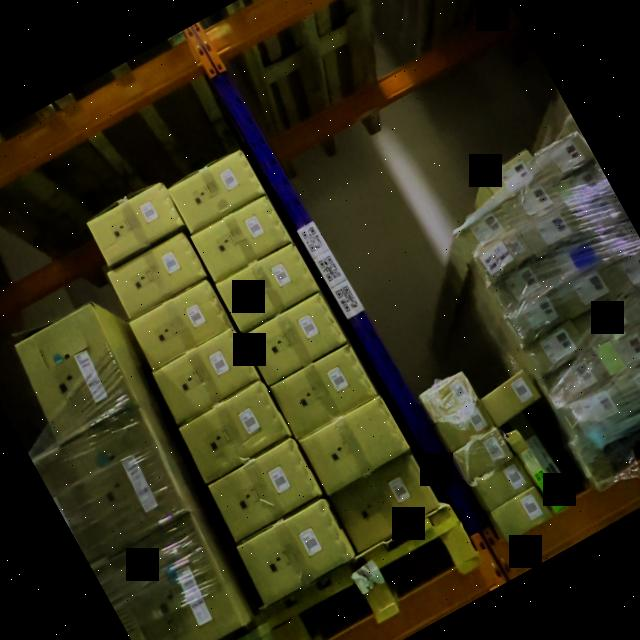box: (60, 407, 188, 559), (110, 511, 246, 640), (15, 303, 133, 437), (209, 439, 324, 545), (238, 497, 353, 603), (179, 381, 290, 485), (299, 395, 411, 496), (332, 454, 438, 552), (271, 345, 379, 440), (153, 329, 259, 425), (216, 242, 320, 334), (244, 293, 347, 385), (129, 280, 232, 371), (190, 195, 292, 282), (107, 231, 207, 319), (86, 181, 185, 269), (169, 149, 265, 234), (512, 414, 575, 501), (507, 428, 564, 515), (523, 321, 590, 381), (505, 289, 569, 350), (538, 233, 603, 291), (540, 354, 606, 409), (560, 384, 626, 439), (576, 294, 640, 350), (490, 259, 552, 315), (491, 486, 553, 542), (483, 148, 543, 204), (555, 265, 618, 318), (519, 203, 583, 255), (480, 368, 538, 425), (474, 458, 533, 514), (454, 428, 514, 483), (475, 227, 532, 283), (502, 178, 562, 231), (421, 371, 476, 427), (436, 401, 492, 453), (461, 202, 514, 251), (594, 326, 640, 382), (614, 368, 640, 407)
